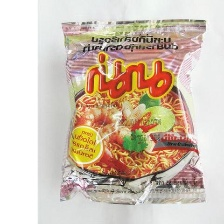snack: (51, 7, 215, 213)
